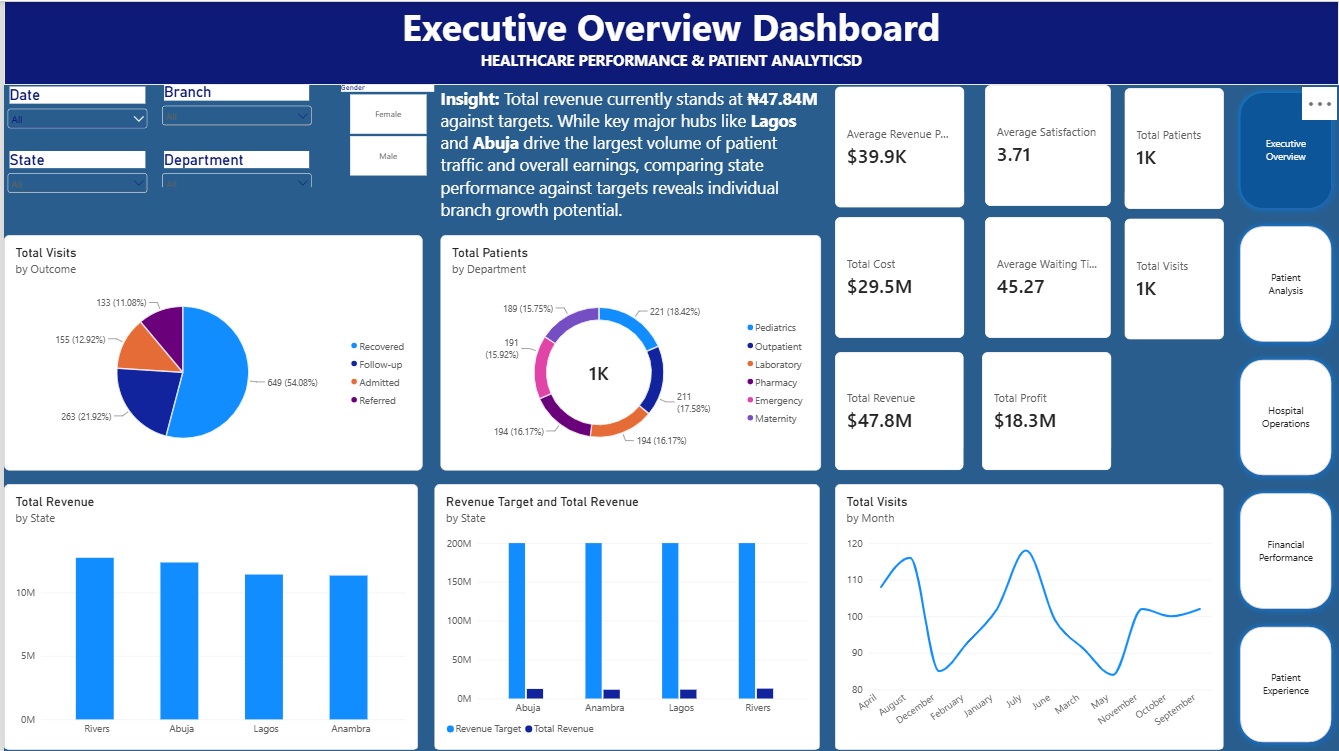

The dashboard page shown, as its layout file describes it:
{"tool":"powerbi","page":{"name":"Executive Overview","canvas":[1920,1080],"ordinal":0},"visuals":[{"type":"slicer","fields":{"Values":["Date_Table.Date"]},"box":[0,122.7,211.2,149.9],"z":0},{"type":"slicer","fields":{"Values":["Patient_Visits.State"]},"box":[0,215.8,211.2,156.7],"z":1000},{"type":"clusteredColumnChart","fields":{"Category":["Patient_Visits.State"],"Y":["_Measure.Total Revenue"]},"box":[0,695,595.1,383.9],"z":2000},{"type":"cardVisual","fields":{"Data":["_Measure.Total Visits"]},"box":[1610.4,313.4,143.1,174.9],"z":3000},{"type":"cardVisual","fields":{"Data":["_Measure.Total Revenue"]},"box":[1195.1,504.8,185.5,170.4],"z":4000},{"type":"cardVisual","fields":{"Data":["_Measure.Total Cost"]},"box":[1195.1,310.6,186.2,174.9],"z":5000},{"type":"cardVisual","fields":{"Data":["_Measure.Total Profit"]},"box":[1405.9,504.2,186.2,170.3],"z":6000},{"type":"cardVisual","fields":{"Data":["_Measure.Average Revenue Per Patient"]},"box":[1194.7,122.7,186.2,174.9],"z":7000},{"type":"cardVisual","fields":{"Data":["_Measure.Average Waiting Time"]},"box":[1410.5,311.2,181.7,174.9],"z":8000},{"type":"cardVisual","fields":{"Data":["_Measure.Average Satisfaction"]},"box":[1410.5,120.4,181.7,174.9],"z":9000},{"type":"lineChart","fields":{"Category":["Date_Table.Month"],"Y":["_Measure.Total Visits"]},"box":[1194.7,695,558.7,383.9],"z":10000},{"type":"donutChart","fields":{"Category":["Patient_Visits.Department"],"Y":["_Measure.Total Patient"]},"box":[626.9,336.2,547.4,338.4],"z":11000},{"type":"clusteredColumnChart","fields":{"Category":["Patient_Visits.State"],"Y":["_Measure.Revenue Target","_Measure.Total Revenue"]},"box":[620.1,695,554.2,383.9],"z":12000},{"type":"pieChart","fields":{"Category":["Patient_Visits.Outcome"],"Y":["_Measure.Total Visits"]},"box":[0,336.2,601.9,338.4],"z":13000},{"type":"slicer","fields":{"Values":["Patient_Visits.Branch"]},"box":[222.6,118.1,224.9,156.7],"z":14000},{"type":"slicer","fields":{"Values":["Patient_Visits.Department"]},"box":[222.6,215.8,224.9,52.2],"z":15000},{"type":"slicer","fields":{"Values":["Patient_Visits.Gender"]},"box":[477,118.1,149.9,134],"z":16000},{"type":"cardVisual","fields":{"Data":["_Measure.Total Patient"]},"box":[1610.4,124.9,143.1,174.9],"z":17000},{"type":"textbox","box":[626.9,122.7,547.4,213.5],"z":18000},{"type":"pageNavigator","box":[1769.3,122.7,149.9,956.2],"z":19000},{"type":"textbox","box":[0,0,1919.3,120.4],"z":20000}]}

Visuals, with their boxes in screenshot pixels (x1, y1, x2, y2), scaled from the page's 1920x1080 canvas onto the 1339x751 screenshot:
slicer - Date_Table.Date: x1=0 y1=85 x2=147 y2=190
slicer - Patient_Visits.State: x1=0 y1=150 x2=147 y2=259
clusteredColumnChart - Patient_Visits.State x _Measure.Total Revenue: x1=0 y1=483 x2=415 y2=750
cardVisual - _Measure.Total Visits: x1=1123 y1=218 x2=1223 y2=340
cardVisual - _Measure.Total Revenue: x1=833 y1=351 x2=963 y2=470
cardVisual - _Measure.Total Cost: x1=833 y1=216 x2=963 y2=338
cardVisual - _Measure.Total Profit: x1=980 y1=351 x2=1110 y2=469
cardVisual - _Measure.Average Revenue Per Patient: x1=833 y1=85 x2=963 y2=207
cardVisual - _Measure.Average Waiting Time: x1=984 y1=216 x2=1110 y2=338
cardVisual - _Measure.Average Satisfaction: x1=984 y1=84 x2=1110 y2=205
lineChart - Date_Table.Month x _Measure.Total Visits: x1=833 y1=483 x2=1223 y2=750
donutChart - Patient_Visits.Department x _Measure.Total Patient: x1=437 y1=234 x2=819 y2=469
clusteredColumnChart - Patient_Visits.State x _Measure.Revenue Target: x1=432 y1=483 x2=819 y2=750
pieChart - Patient_Visits.Outcome x _Measure.Total Visits: x1=0 y1=234 x2=420 y2=469
slicer - Patient_Visits.Branch: x1=155 y1=82 x2=312 y2=191
slicer - Patient_Visits.Department: x1=155 y1=150 x2=312 y2=186
slicer - Patient_Visits.Gender: x1=333 y1=82 x2=437 y2=175
cardVisual - _Measure.Total Patient: x1=1123 y1=87 x2=1223 y2=208
textbox: x1=437 y1=85 x2=819 y2=234
pageNavigator: x1=1234 y1=85 x2=1338 y2=750
textbox: x1=0 y1=0 x2=1338 y2=84
